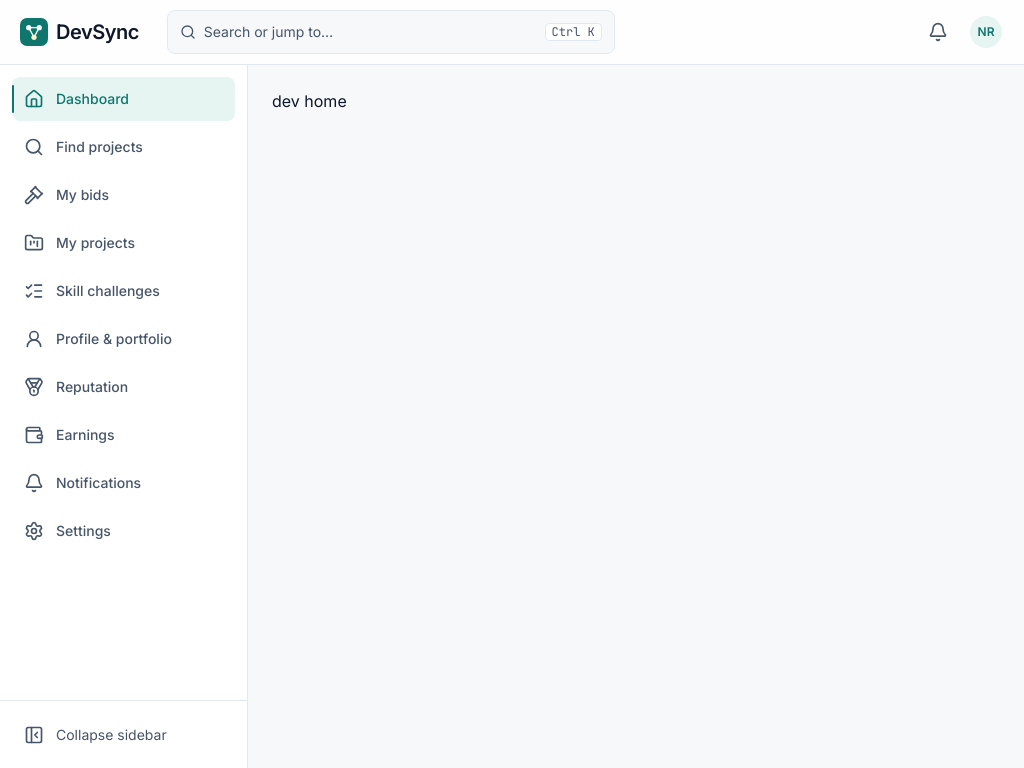
Test: AppShell (spec §13.4) › opens the command palette with Ctrl+K and navigates
Check: the text "dev home" is shown, box [272,91,347,111]
Type keys "{Control>}k{/Control}"
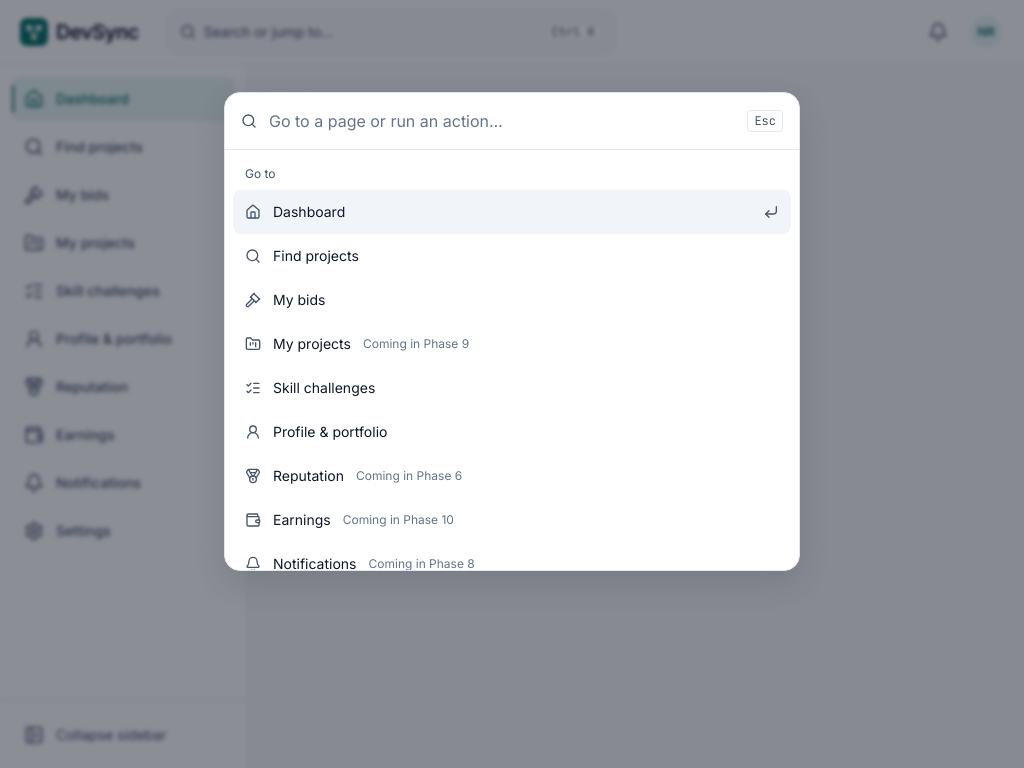
In the dropdown with placeholder "Go to a page or run an action…": (502, 121) [269,93,735,149], type "settings"
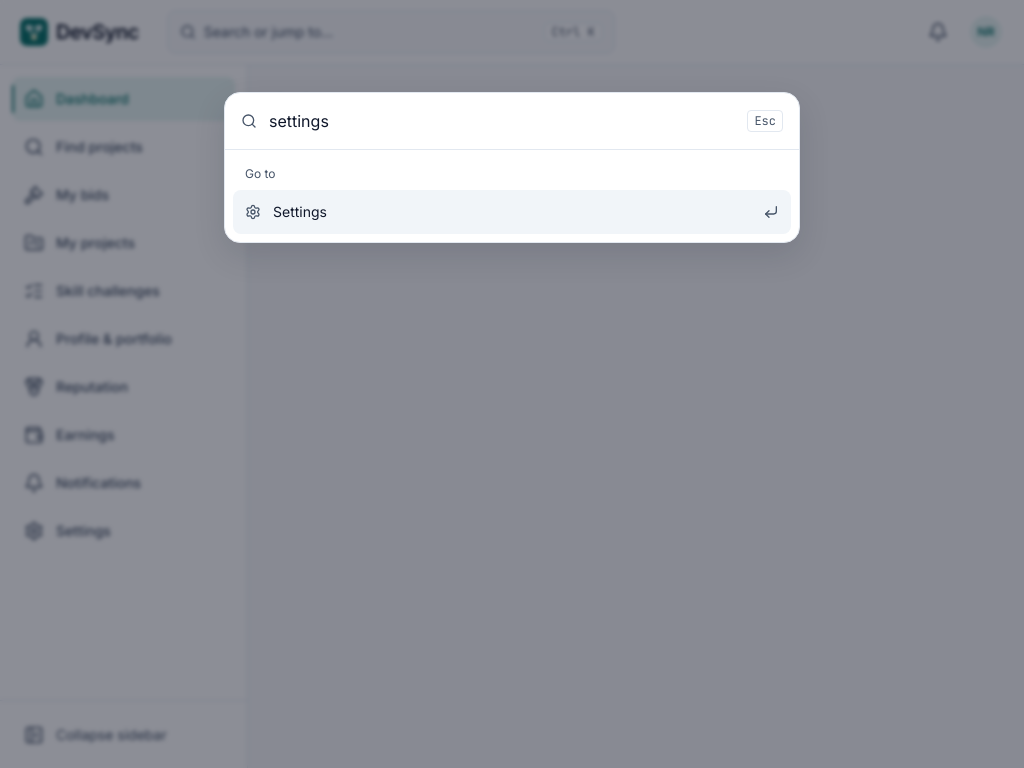
Press Enter
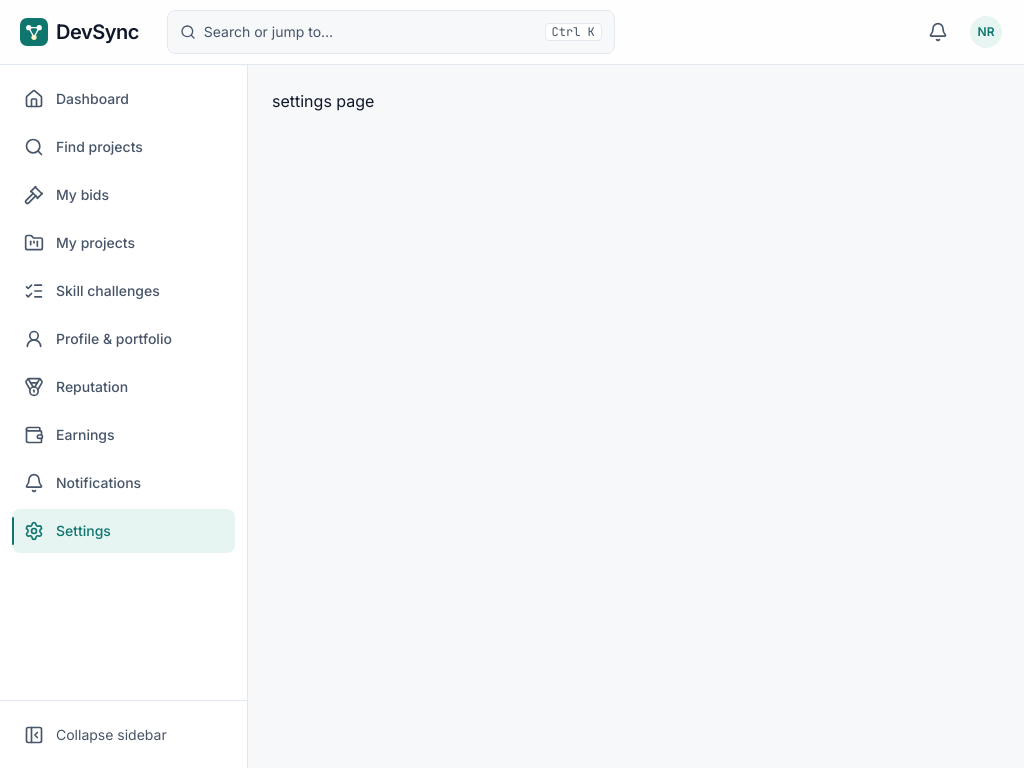
Check: the text "settings page" is shown, box [272,91,374,111]
